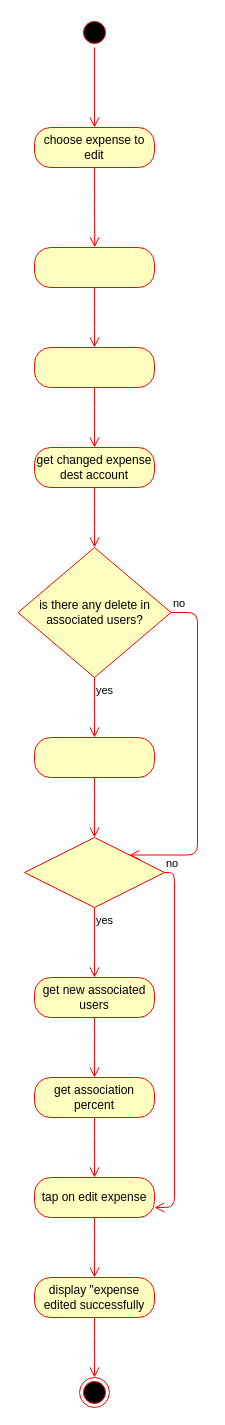
This 225x1425 diagram has some shape labels left out. The centre of each missing label's shape, as x and y in pixels:
"get changed expense amount" belongs at (94,367).
"get changed expense source account" belongs at (94,267).
"get deleted users" belongs at (94,757).
"is there any new associated user?" belongs at (94,872).
